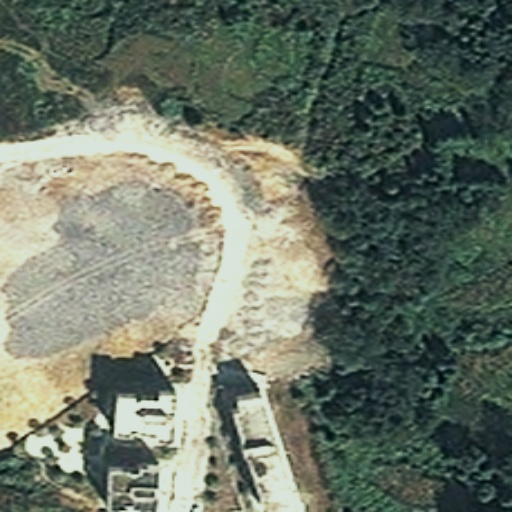landslide: (235, 140, 337, 375)
